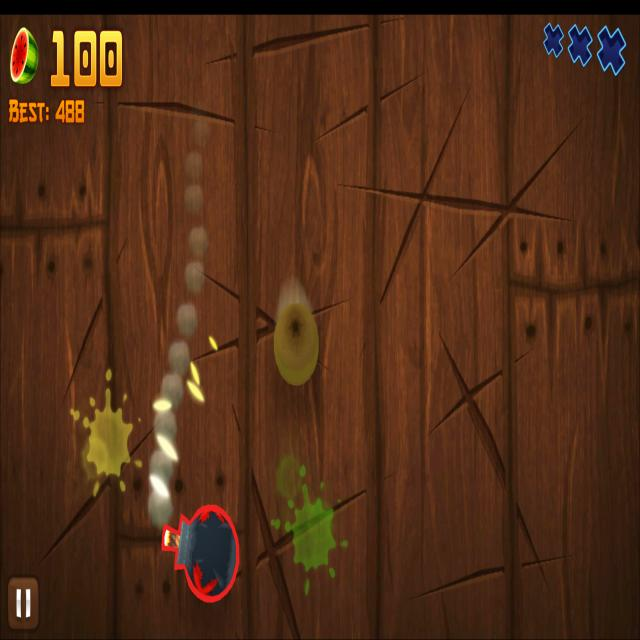bomb: (160, 502, 240, 605)
fruit: (273, 300, 320, 386)
